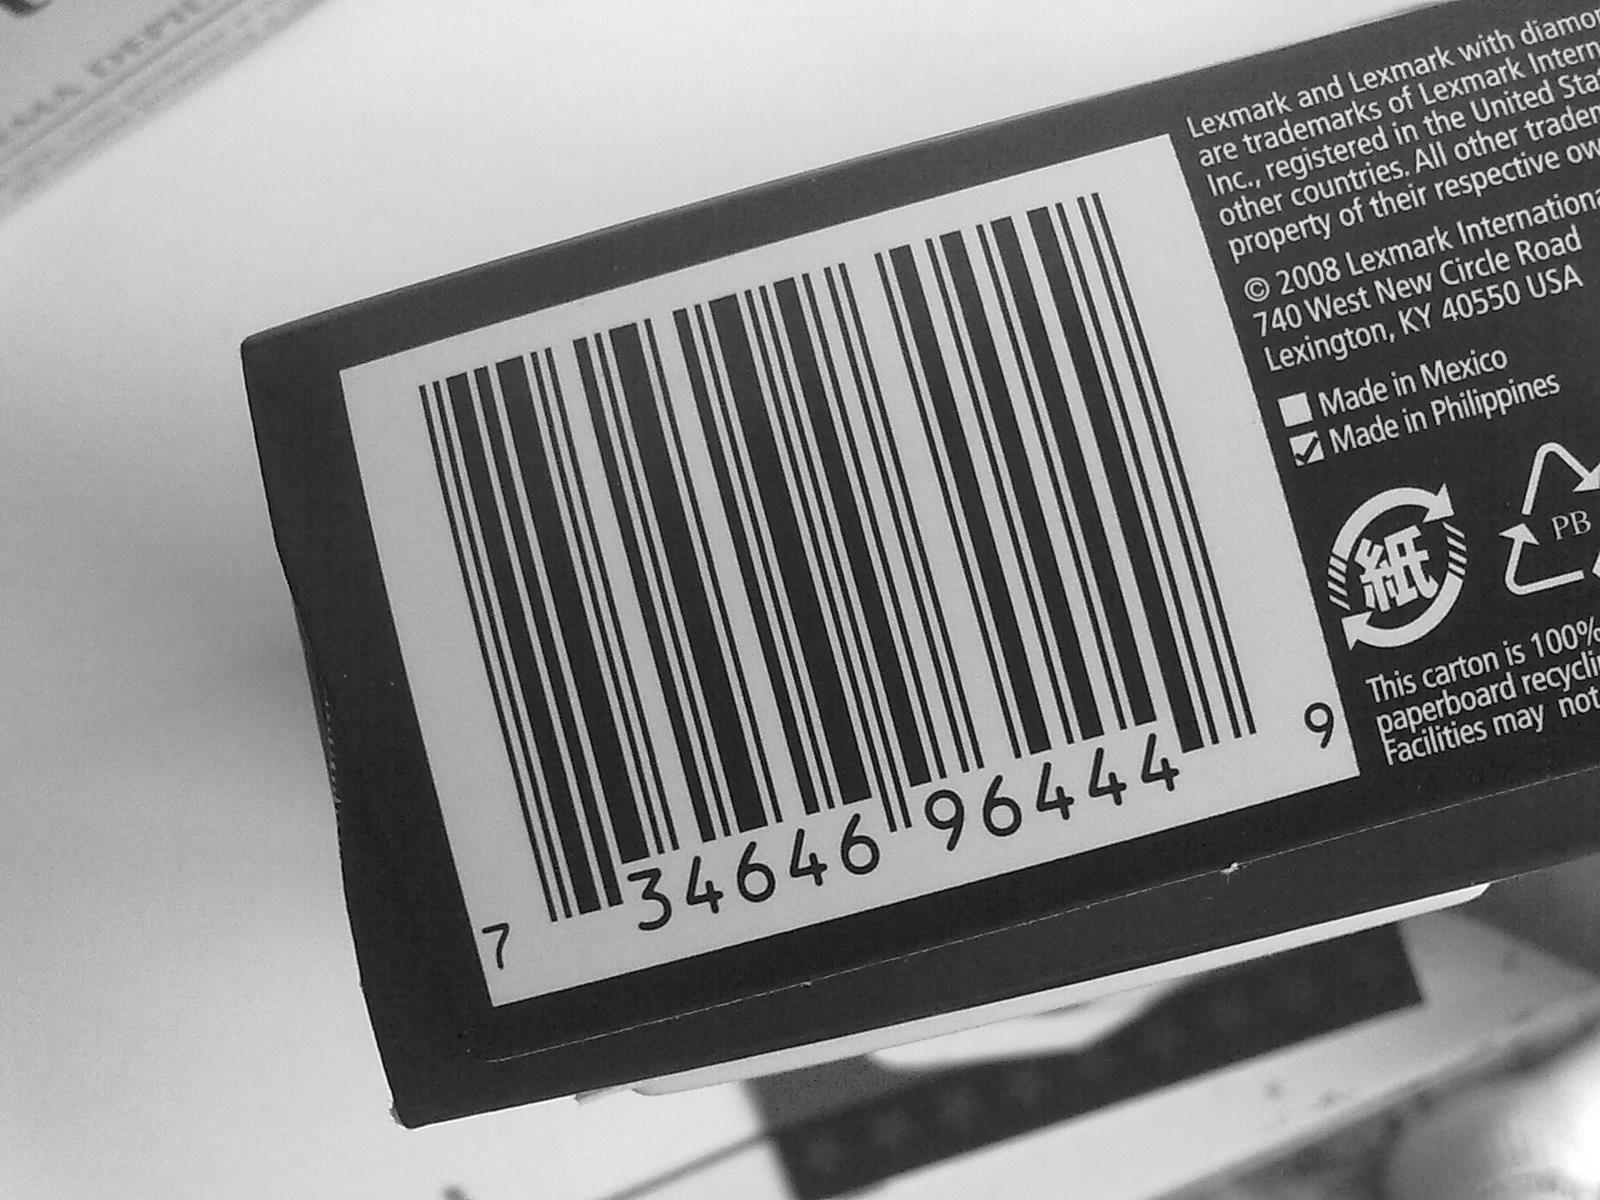Barcode: (467, 155, 1231, 929)
